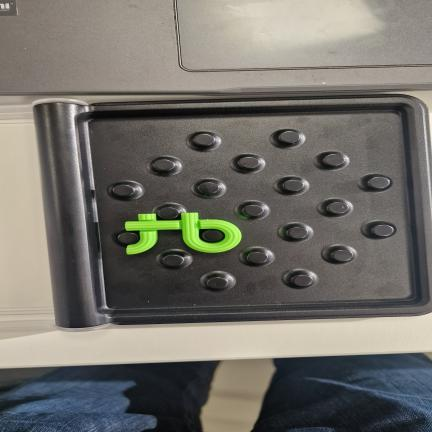K_YellowGreen: (125, 213, 241, 254)
board: (34, 93, 432, 330)
hinge: (48, 102, 95, 327)
pin: (148, 156, 182, 177), (364, 176, 392, 191), (197, 180, 223, 196), (113, 182, 137, 197), (281, 178, 305, 192), (200, 229, 224, 243), (323, 153, 345, 167), (193, 133, 215, 146), (278, 131, 300, 144), (117, 232, 139, 245), (372, 224, 394, 237), (291, 274, 313, 287), (332, 249, 353, 262), (247, 251, 268, 264), (238, 157, 260, 169), (327, 202, 349, 214), (242, 205, 264, 217), (158, 207, 180, 219), (162, 254, 184, 266), (287, 227, 308, 239), (207, 277, 228, 289)
